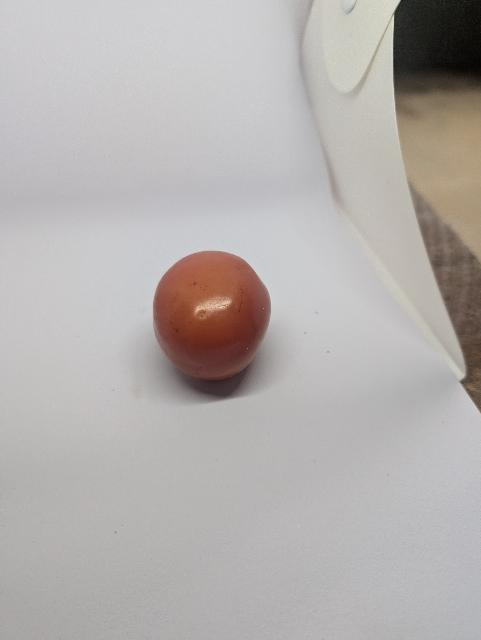red: (148, 244, 283, 389)
